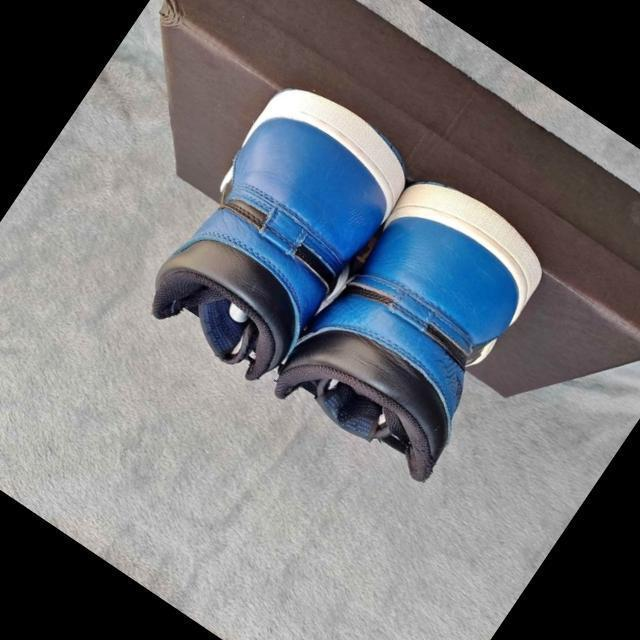nike fake jordan 1: (235, 134, 584, 498), (127, 68, 431, 402)
